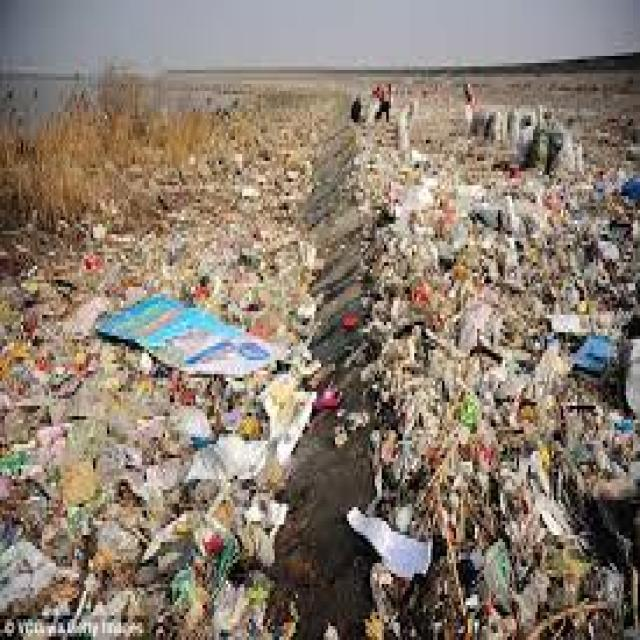cardboard: (406, 208, 634, 540)
